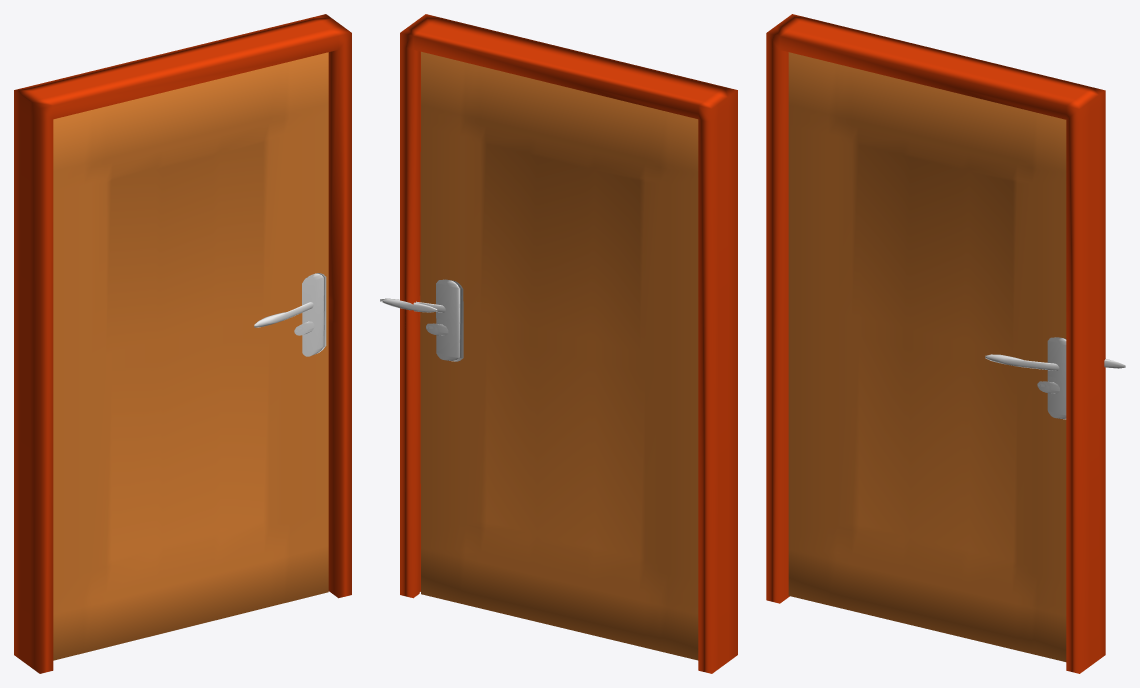
File: door.glb
3 renders of one model, left to right at view 1: azimuth 30°, elevation 25°; view 2: azimuth 150°, elevation 25°; view 3: azimuth 330°, elevation 25°, orthographic.
Visible parts, largest first — view 1: DoorBoddy, OutBoddy, Locker.001; view 2: DoorBoddy, OutBoddy, Locker; view 3: DoorBoddy, OutBoddy, Locker.001.
Boxes of the visible parts, bbox=[...] form: DoorBoddy: bbox=[53, 52, 328, 660]; OutBoddy: bbox=[14, 14, 351, 673]; Locker.001: bbox=[254, 273, 326, 356]; DoorBoddy: bbox=[420, 51, 698, 660]; OutBoddy: bbox=[400, 14, 737, 673]; Locker: bbox=[380, 279, 463, 361]; DoorBoddy: bbox=[788, 52, 1066, 661]; OutBoddy: bbox=[766, 14, 1105, 673]; Locker.001: bbox=[985, 337, 1066, 419].
Bounding box in the file's own units: 7.61 × 12.42 × 1.09.
